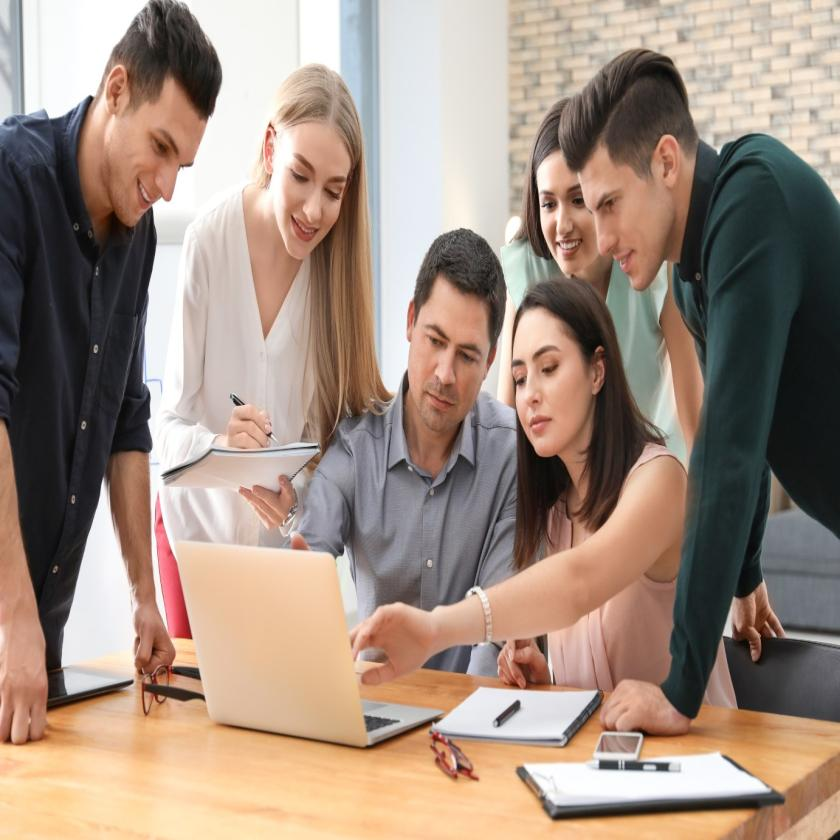Sin_casco: (563, 44, 706, 304), (90, 0, 223, 253), (261, 54, 369, 290), (405, 229, 512, 460), (512, 279, 618, 478), (530, 93, 604, 280)
